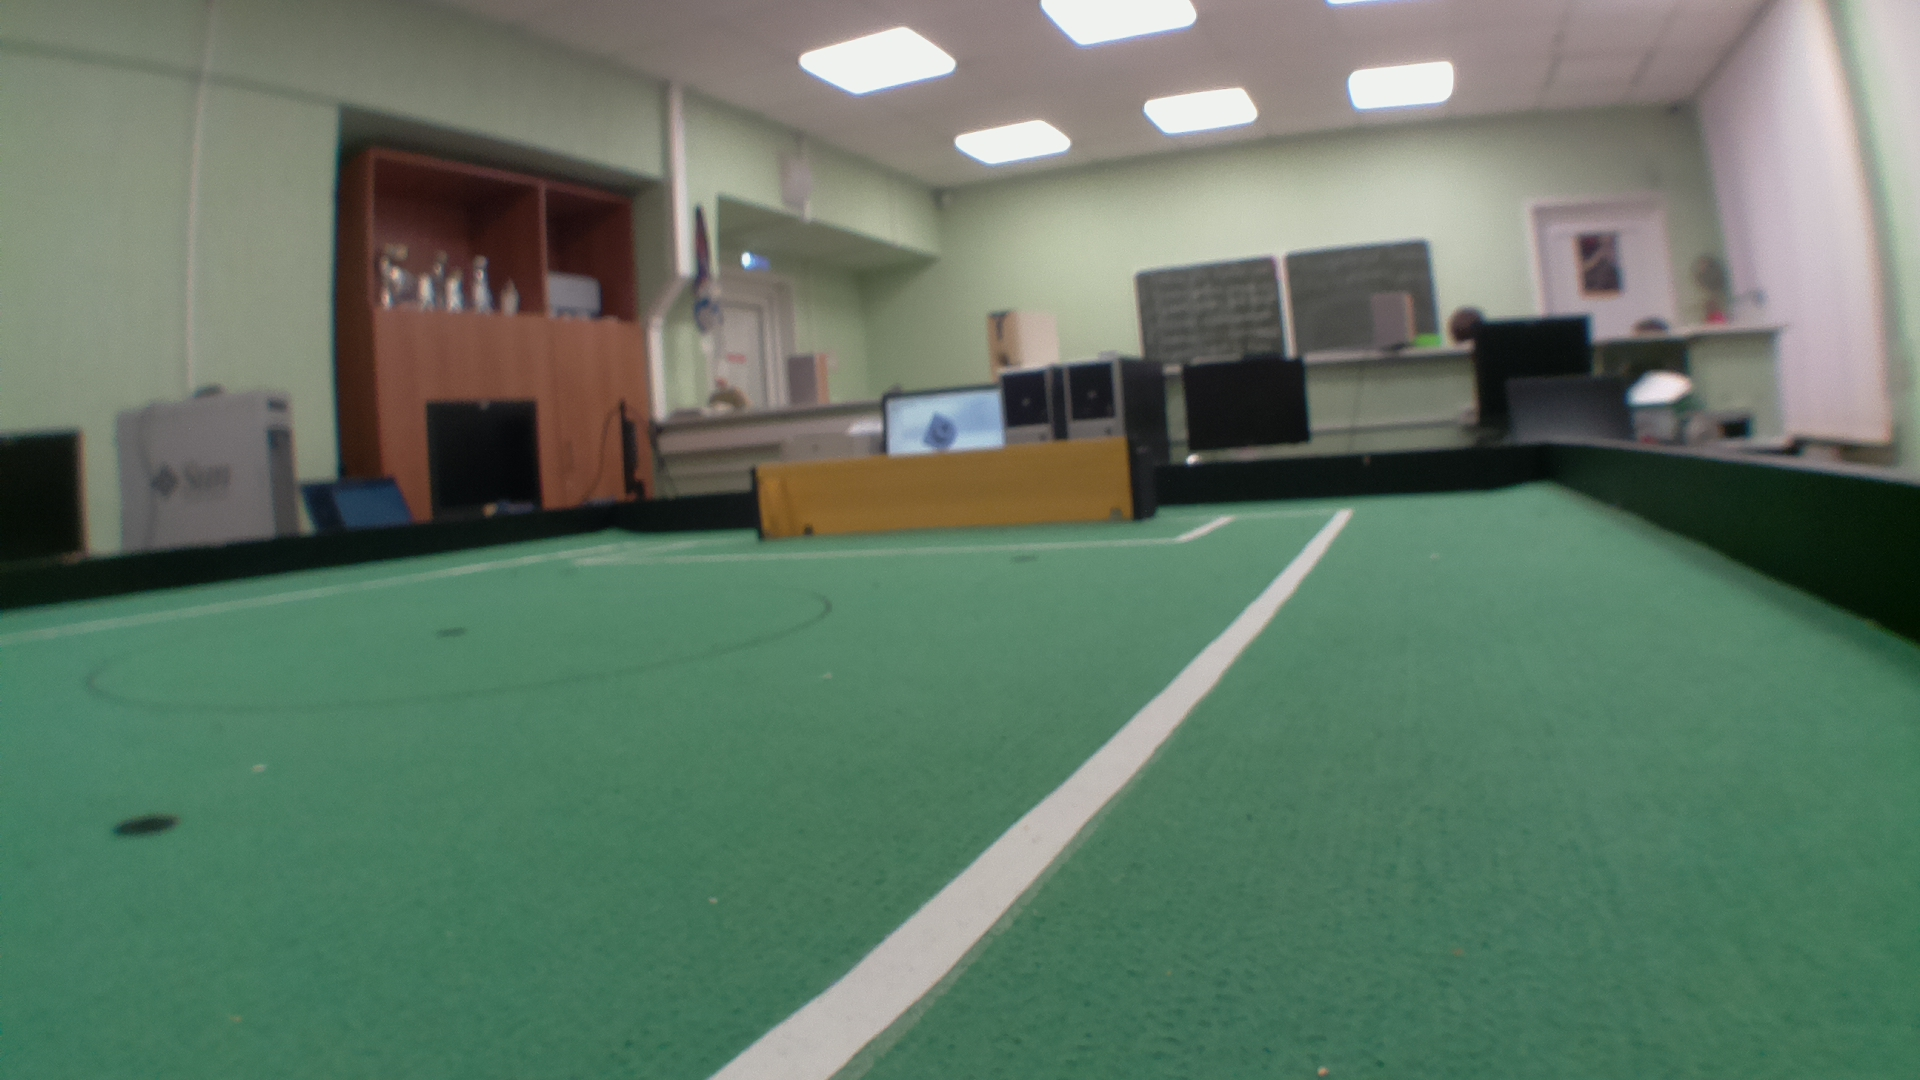YellowGoal: (756, 438, 1131, 546)
